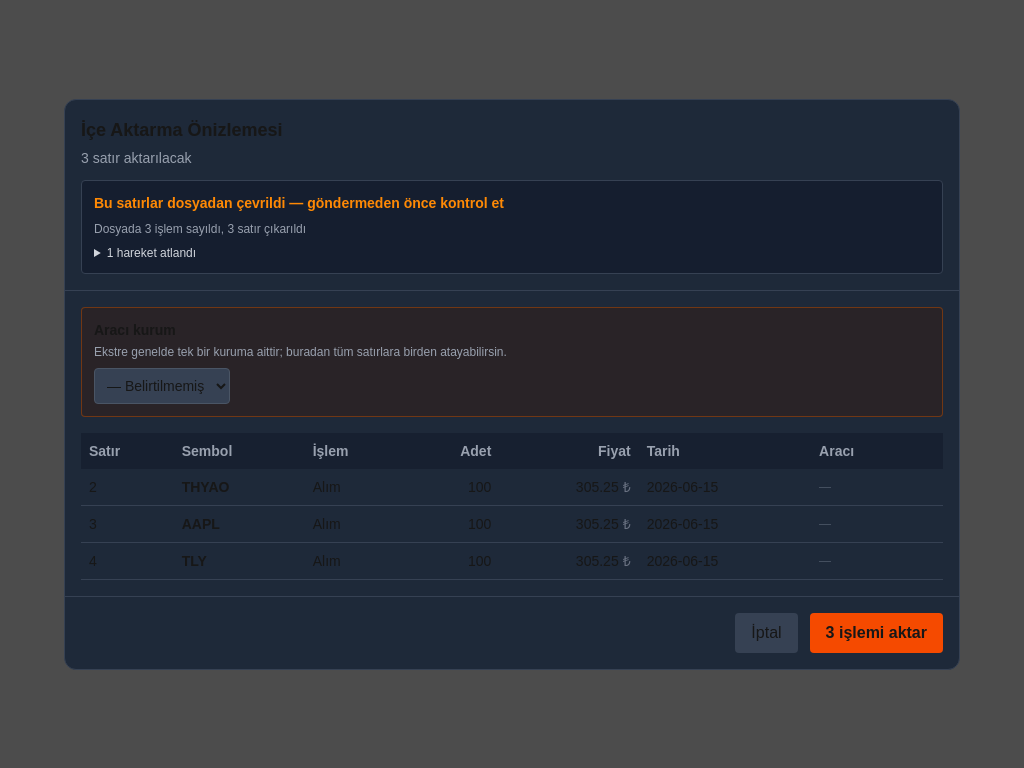
ImportPreview › çevirmede atlanan hareketleri sebebiyle listeler
Click the heading "1 hareket atlandı" at (151, 252), box x1=107 y1=246 x2=196 y2=260
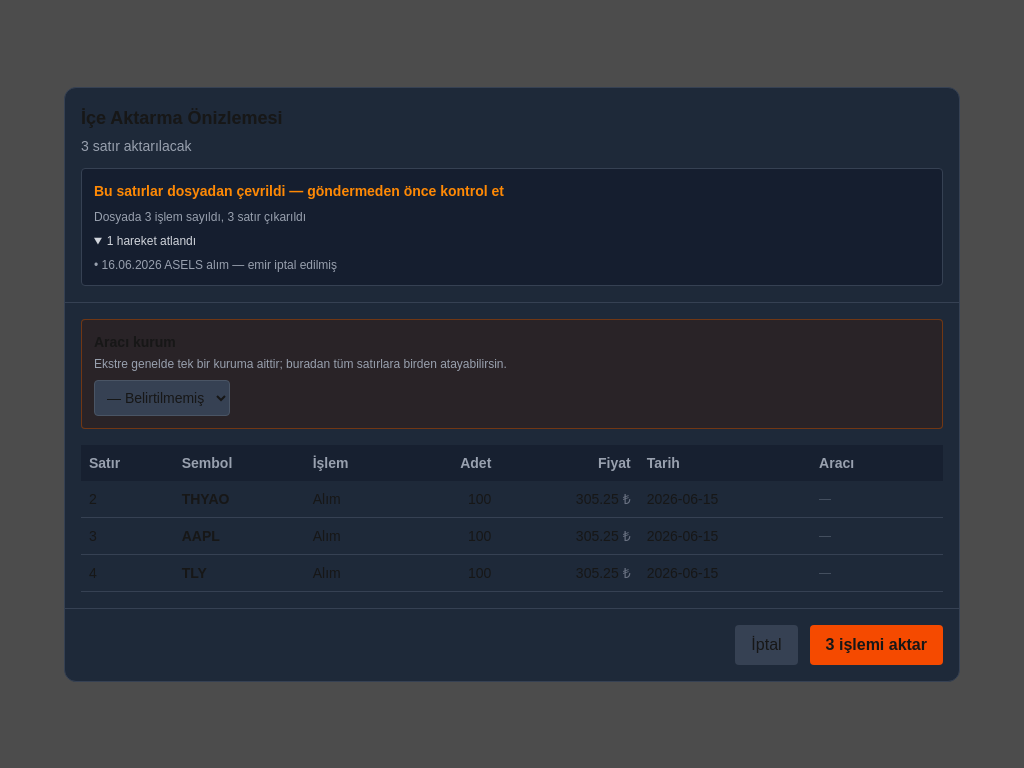
Check: the list item "• 16.06.2026 ASELS alım — emir iptal edilmiş" is shown, box x1=94 y1=258 x2=337 y2=272
